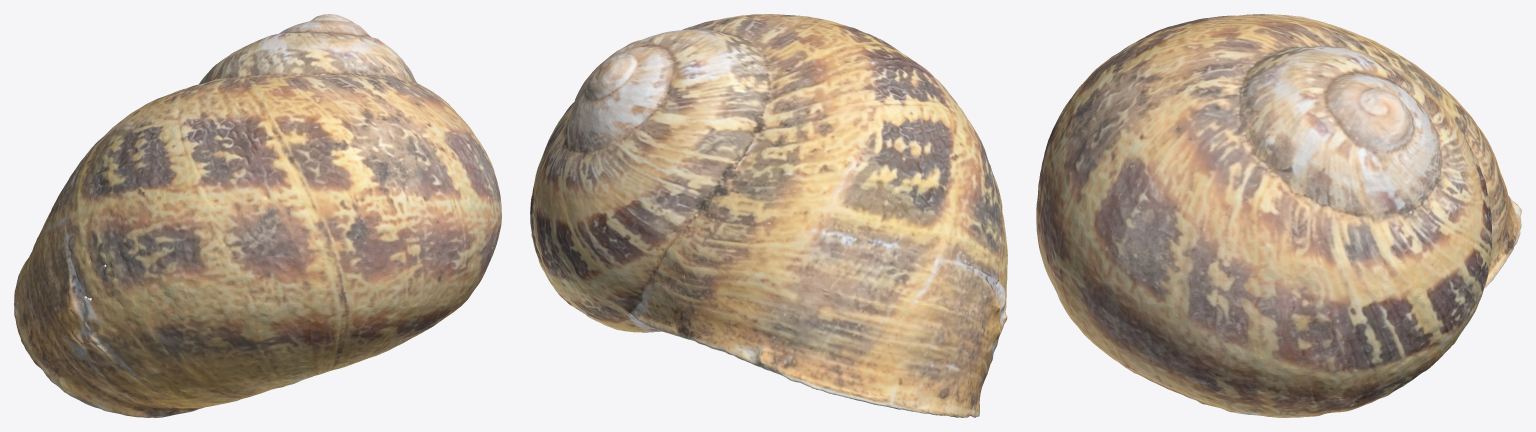
File: MZUR3D-058.glb
3 views of the same model, side by side, from view 1: azimuth 30°, elevation 25°; view 2: azimuth 150°, elevation 25°; view 3: azimuth 270°, elevation 25° (orthographic). The views are drawn at different scales.
Visible parts, largest first — view 1: Polmonato; view 2: Polmonato; view 3: Polmonato.
Boxes of the visible parts, x1=… form: Polmonato: x1=14, y1=14, x2=501, y2=417; Polmonato: x1=530, y1=14, x2=1007, y2=417; Polmonato: x1=1036, y1=14, x2=1521, y2=417.
Size of the model in its own units: 0.2248 by 0.1607 by 0.1956.
1 material, 1 textured.
